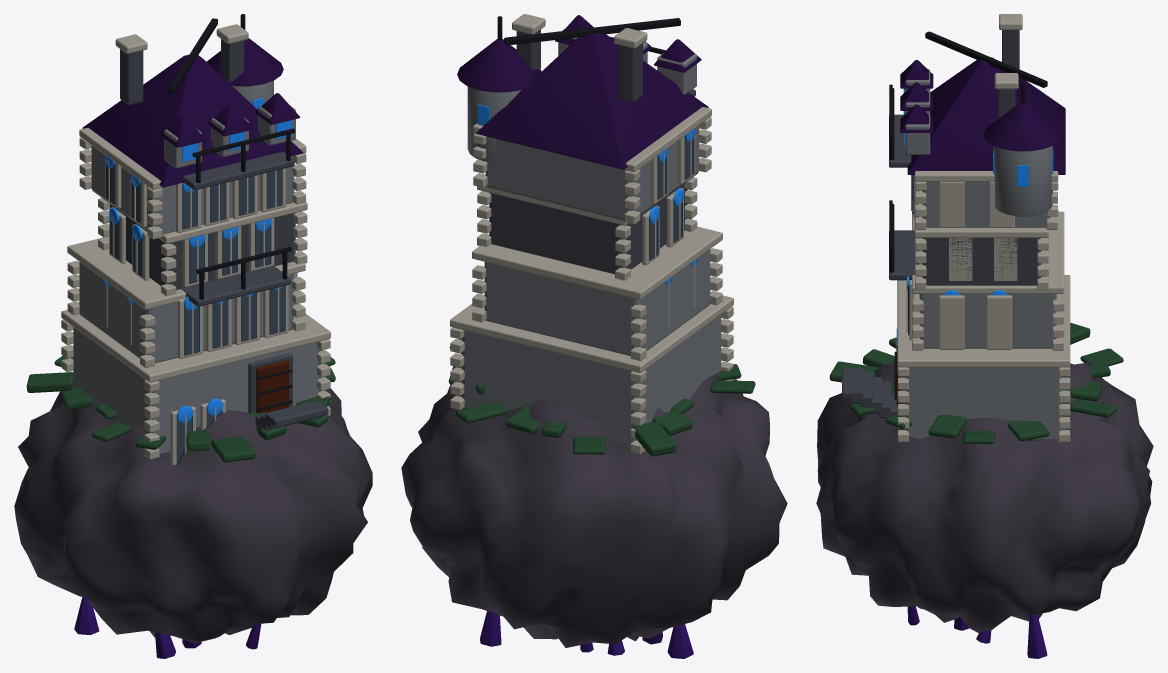
The model's file is caracola.obj.
3 views of the same model, side by side, from view 1: azimuth 30°, elevation 25°; view 2: azimuth 150°, elevation 25°; view 3: azimuth 270°, elevation 25° (orthographic). The views are drawn at different scales.
Visible parts, largest first — view 1: Tower_Planet_Asteroid, Tower_Roof, Tower_Stage_1, Tower_Stage_2, Tower_Ledge_1, Tower_Ledge_2, Tower_Stage_3, Tower_Stage_4, Balcony_Floor_2.58, Balcony_Floor_5.02, Observation_Turret_Roof, Main_Door (+44 smaller); view 2: Tower_Planet_Asteroid, Tower_Roof, Tower_Stage_1, Tower_Stage_2, Tower_Stage_4, Tower_Stage_3, Tower_Ledge_2, Tower_Ledge_1, Observation_Turret_Roof, Observation_Turret, Roof_Ridge, Tower_Ledge_4 (+17 smaller); view 3: Tower_Planet_Asteroid, Tower_Stage_1, Tower_Roof, Tower_Ledge_1, Tower_Stage_2, Tower_Stage_3, Observation_Turret, Observation_Turret_Roof, Tower_Ledge_2, Tower_Stage_4, Side_Window_0_1_1_Frame, Side_Window_0_1_0_Frame (+21 smaller).
Part boxes in pixels (x1=…): Tower_Planet_Asteroid: x1=14, y1=384, x2=372, y2=642; Tower_Roof: x1=82, y1=54, x2=302, y2=187; Tower_Stage_1: x1=73, y1=327, x2=318, y2=455; Tower_Stage_2: x1=79, y1=262, x2=293, y2=363; Tower_Ledge_1: x1=61, y1=310, x2=330, y2=382; Tower_Ledge_2: x1=67, y1=236, x2=305, y2=309; Tower_Stage_3: x1=110, y1=204, x2=295, y2=289; Tower_Stage_4: x1=91, y1=145, x2=294, y2=234; Balcony_Floor_2.58: x1=181, y1=266, x2=291, y2=306; Balcony_Floor_5.02: x1=183, y1=152, x2=294, y2=190; Observation_Turret_Roof: x1=206, y1=38, x2=283, y2=86; Main_Door: x1=256, y1=360, x2=289, y2=413; Tower_Planet_Asteroid: x1=401, y1=373, x2=787, y2=647; Tower_Roof: x1=476, y1=33, x2=708, y2=169; Tower_Stage_1: x1=462, y1=314, x2=721, y2=450; Tower_Stage_2: x1=484, y1=249, x2=710, y2=355; Tower_Stage_4: x1=485, y1=125, x2=699, y2=220; Tower_Stage_3: x1=489, y1=183, x2=684, y2=274; Tower_Ledge_2: x1=472, y1=226, x2=722, y2=299; Tower_Ledge_1: x1=450, y1=295, x2=733, y2=372; Observation_Turret_Roof: x1=457, y1=39, x2=541, y2=92; Observation_Turret: x1=467, y1=86, x2=521, y2=162; Roof_Ridge: x1=504, y1=18, x2=680, y2=45; Tower_Ledge_4: x1=473, y1=107, x2=711, y2=172; Tower_Planet_Asteroid: x1=816, y1=362, x2=1153, y2=632; Tower_Stage_1: x1=905, y1=367, x2=1062, y2=441; Tower_Roof: x1=907, y1=57, x2=1065, y2=174; Tower_Ledge_1: x1=897, y1=275, x2=1070, y2=367; Tower_Stage_2: x1=919, y1=294, x2=1056, y2=348; Tower_Stage_3: x1=922, y1=238, x2=1041, y2=285; Observation_Turret: x1=993, y1=146, x2=1052, y2=216; Observation_Turret_Roof: x1=983, y1=102, x2=1062, y2=151; Tower_Ledge_2: x1=912, y1=211, x2=1064, y2=293; Tower_Stage_4: x1=922, y1=181, x2=1050, y2=227; Side_Window_0_1_1_Frame: x1=986, y1=295, x2=1012, y2=349; Side_Window_0_1_0_Frame: x1=939, y1=295, x2=964, y2=349.
Size of the model in its own units: 6.88 by 12.42 by 6.53.
